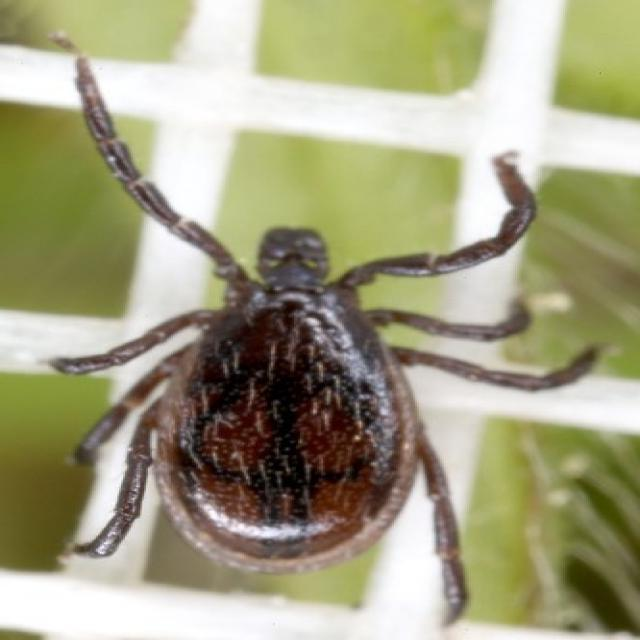Ixodes Ricinus-M: (46, 53, 605, 627)
